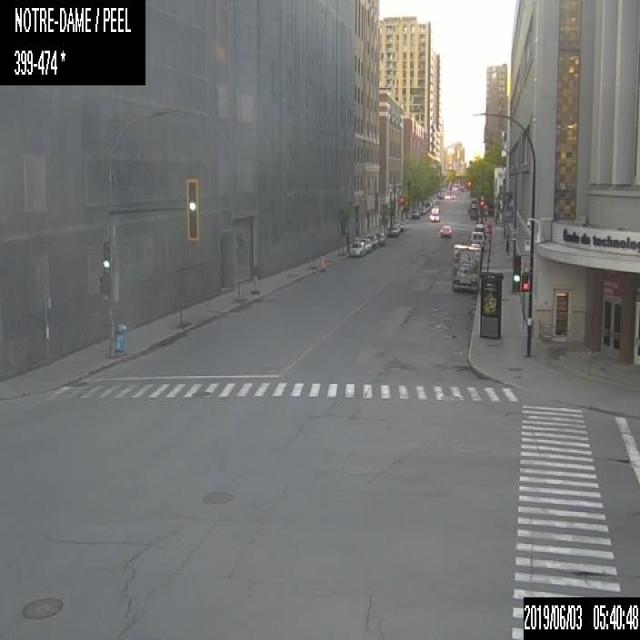construction: (486, 222, 491, 234)
vehicle: (450, 243, 481, 291), (468, 230, 484, 250), (348, 240, 364, 256), (359, 237, 372, 252), (473, 222, 485, 237), (366, 234, 378, 248), (439, 224, 451, 237), (388, 223, 401, 234), (376, 232, 386, 245), (429, 212, 440, 222), (410, 208, 420, 218), (430, 204, 440, 213), (469, 208, 477, 218), (418, 205, 426, 214), (424, 202, 430, 211), (450, 192, 456, 198), (444, 193, 450, 198)
